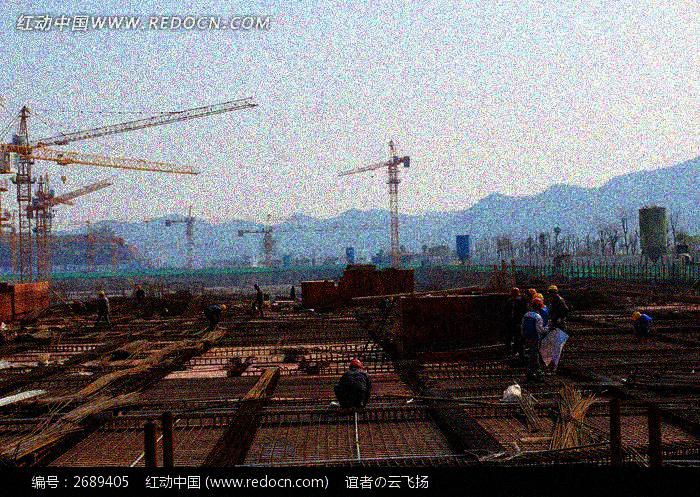helmet: (349, 359, 364, 372), (547, 284, 560, 297), (509, 287, 521, 300), (532, 298, 545, 310), (524, 288, 536, 300), (632, 310, 642, 322), (98, 291, 105, 299), (219, 304, 226, 312), (387, 296, 394, 302), (73, 299, 79, 306), (253, 283, 259, 290), (137, 284, 141, 290)
